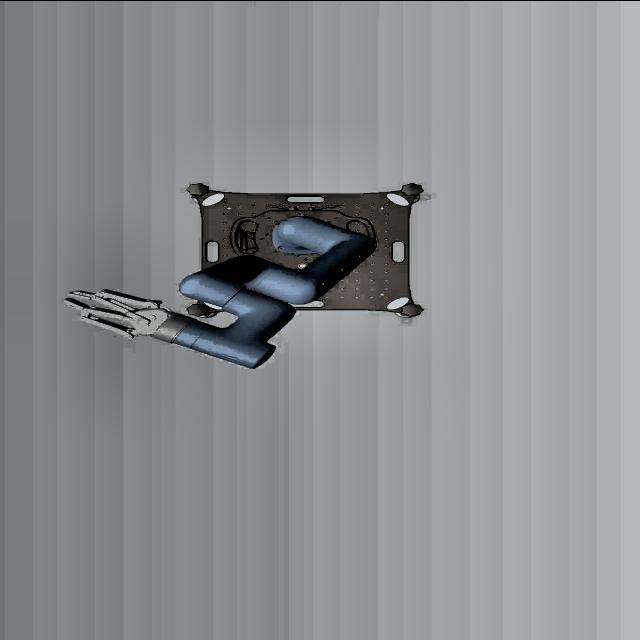robot: (62, 212, 388, 368)
